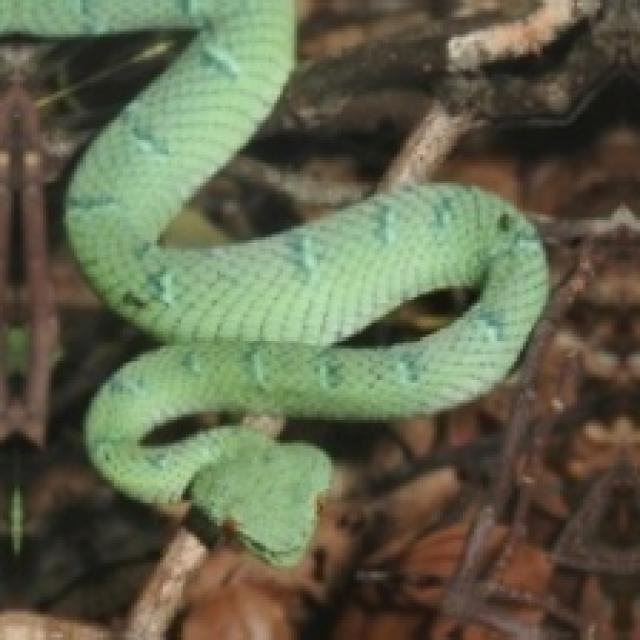north ph temple pitviper: (66, 0, 546, 560)
